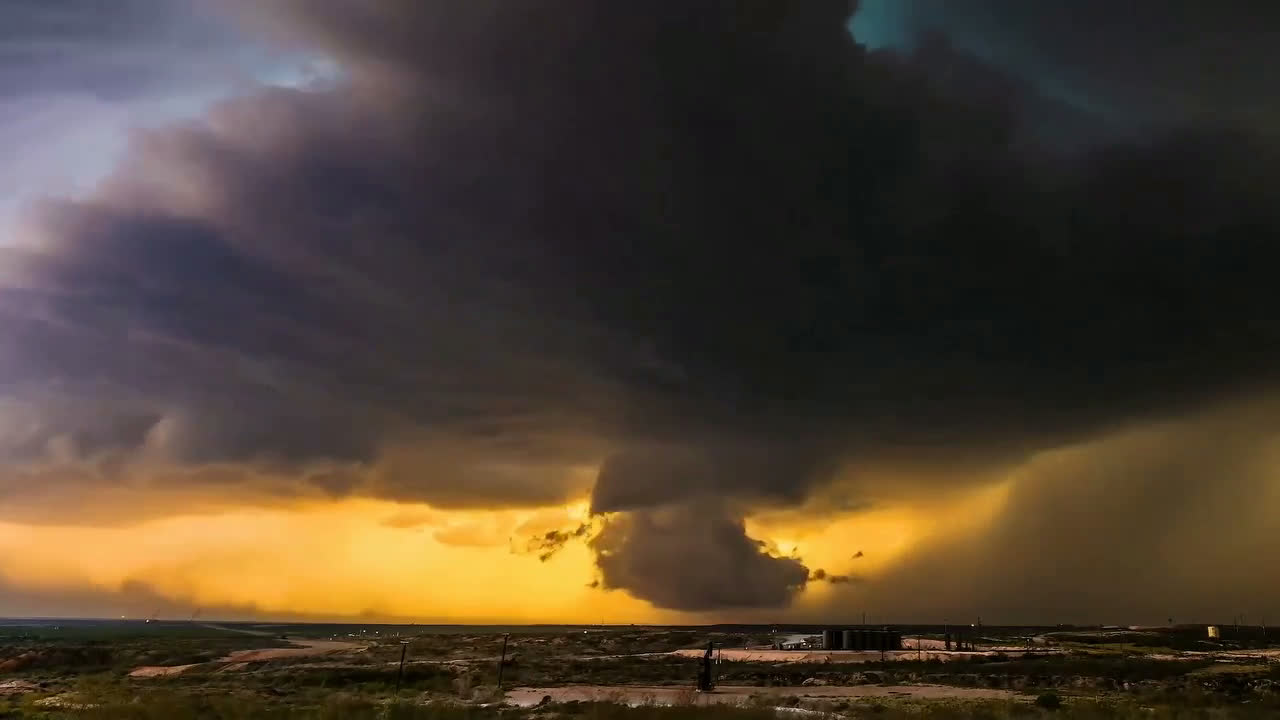RFD: (674, 413, 1271, 624)
mesocyclone: (196, 0, 1280, 511)
striations: (2, 131, 684, 395)
wall cloud: (3, 0, 1277, 605)
